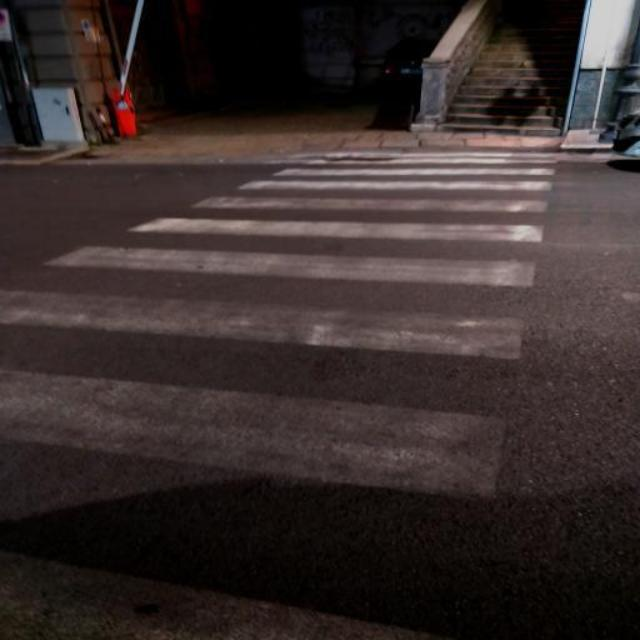sidewalk: (1, 158, 556, 499)
